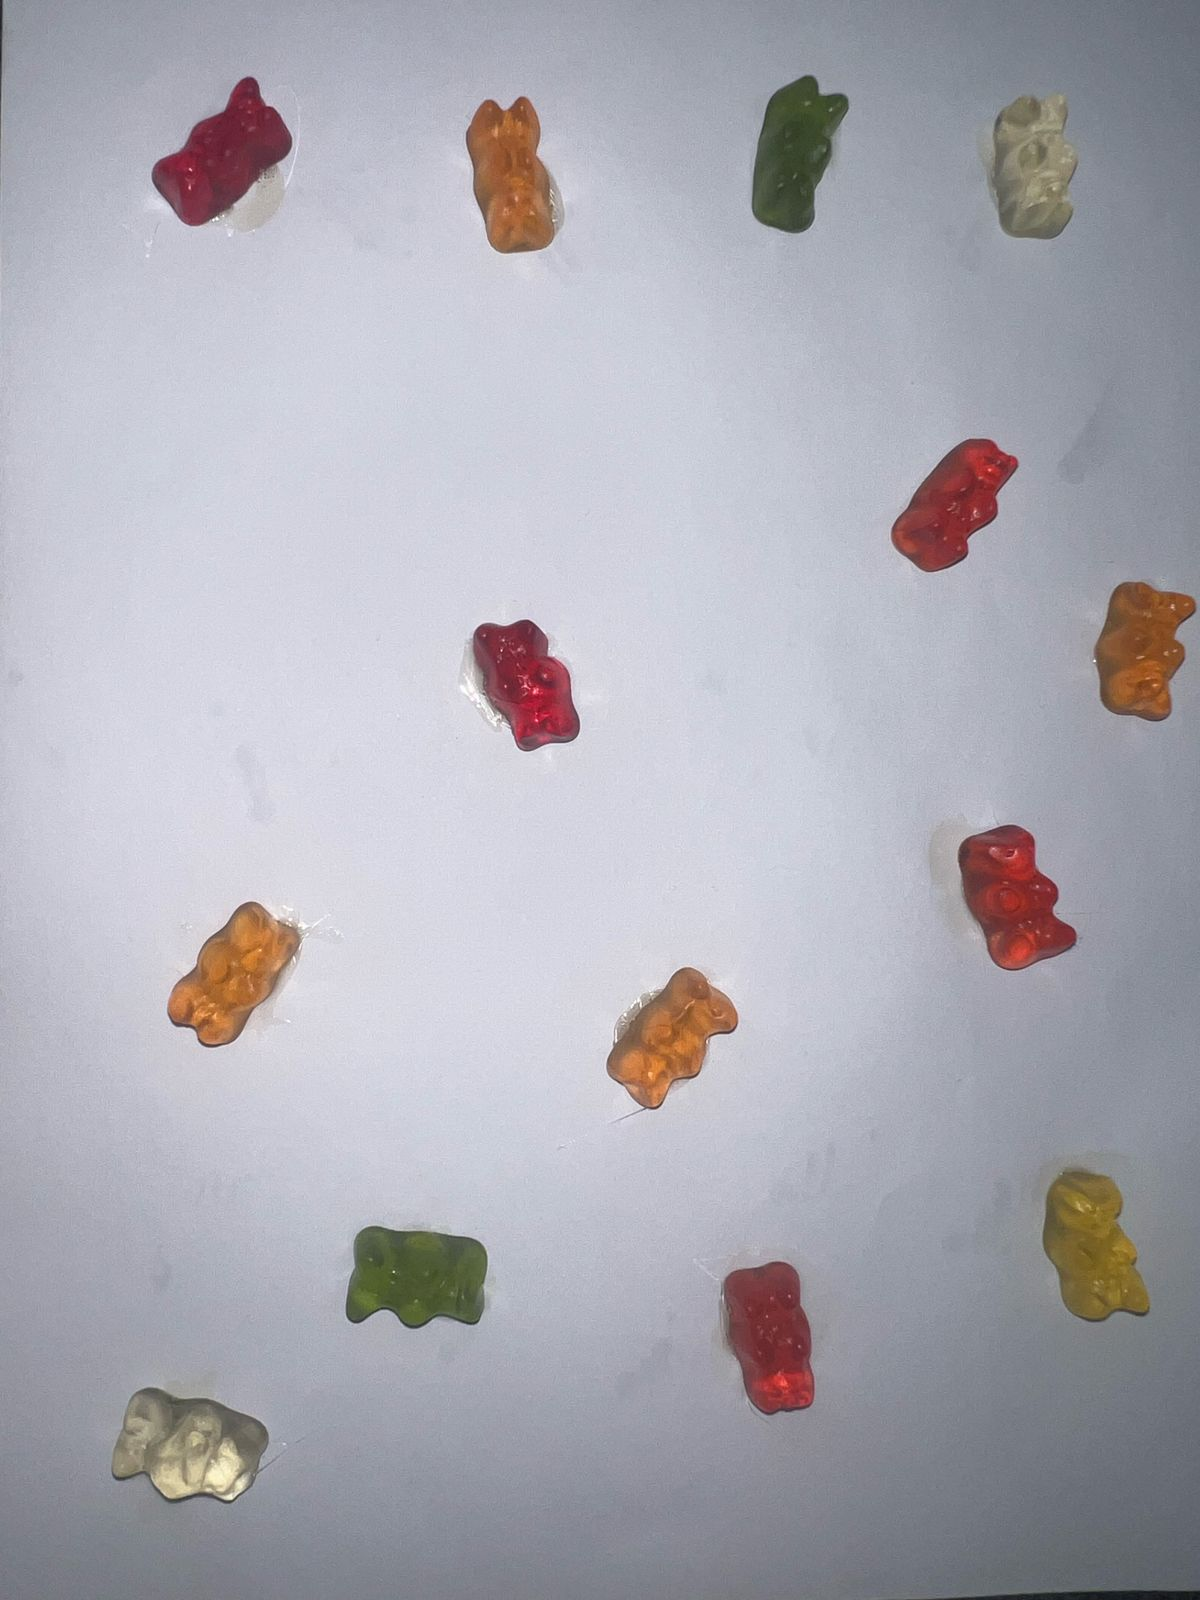gummybear: (146, 71, 305, 237), (155, 897, 310, 1048), (949, 808, 1085, 975), (603, 959, 742, 1119), (1034, 1163, 1163, 1327), (108, 1386, 276, 1506), (740, 67, 855, 238), (889, 431, 1024, 572), (713, 1259, 829, 1419), (463, 91, 572, 258), (342, 1220, 492, 1334), (468, 612, 585, 758), (984, 86, 1092, 241), (1089, 577, 1199, 724)
